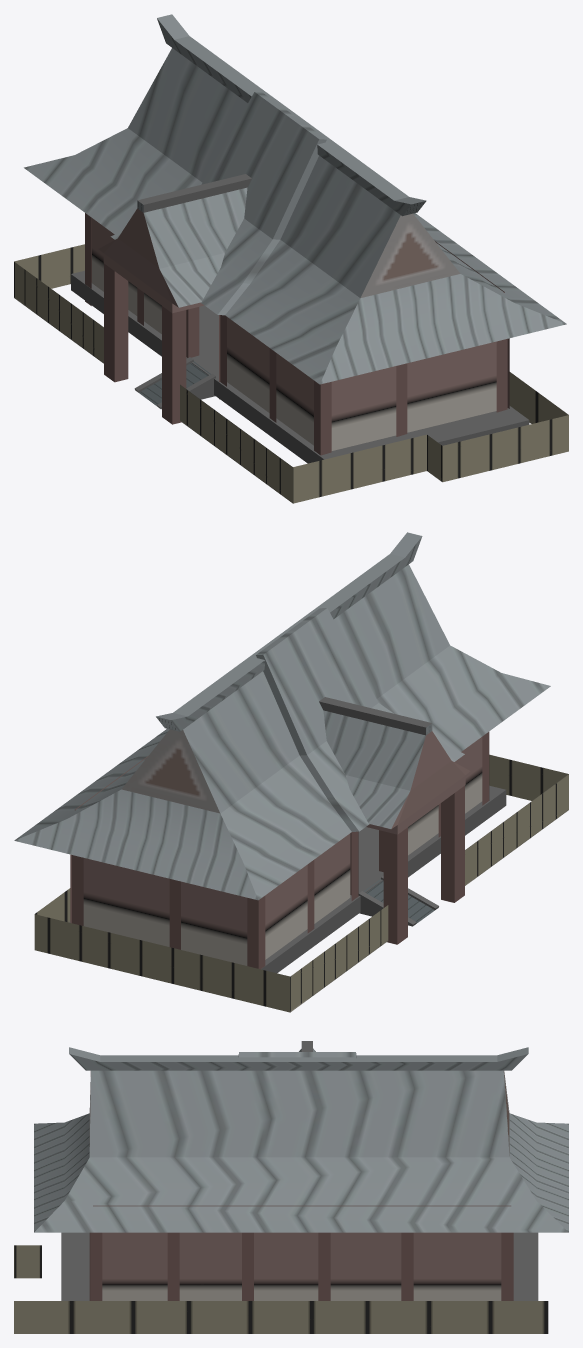
Rendered from TS_Building_04.FBX.
The picture shows the model from 3 angles, top to bottom: view 1: azimuth 30°, elevation 25°; view 2: azimuth 150°, elevation 25°; view 3: azimuth 270°, elevation 25°; orthographic projection. The views are drawn at different scales.
Visible parts, largest first — view 1: TS_Building_04; view 2: TS_Building_04; view 3: TS_Building_04.
Part boxes in pixels (box(x1,y1,x2,y2)): TS_Building_04: box(14, 14, 568, 503); TS_Building_04: box(14, 532, 568, 1012); TS_Building_04: box(14, 1041, 568, 1333).
Size of the model in its own units: 2.75 by 2.45 by 5.28.
